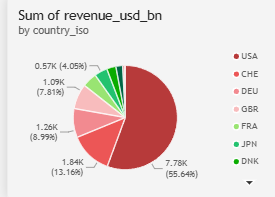

Layout of this report page (visuals, bound fields, positions):
{"tool":"powerbi","page":{"name":"Country_revenue","canvas":[400,300],"ordinal":6},"visuals":[{"type":"pieChart","fields":{"Category":["Pharma_finance.country_iso"],"Y":["Sum(Pharma_finance.revenue_usd_bn)"]},"box":[0,0,400,300],"z":0}]}

Visuals, with their boxes on the page's 400x300 design canvas (x1, y1, x2, y2). These are canvas units, not pixel positions in the 275x197 screenshot, which may show the page scaled, cropped or inside an application window:
pieChart - Pharma_finance.country_iso x Sum(Pharma_finance.revenue_usd_bn): BBox(0, 0, 400, 300)
